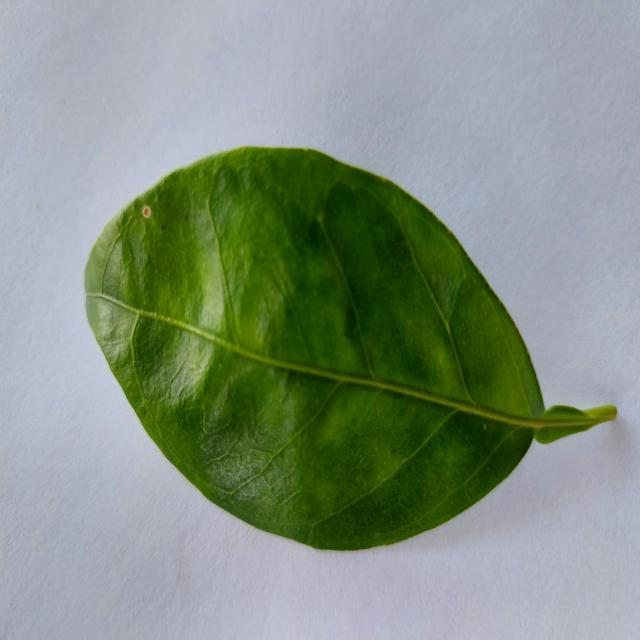greening: (85, 147, 616, 550)
